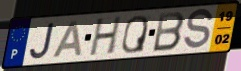A: (51, 19, 83, 60)
B: (151, 11, 186, 54)
H: (88, 15, 124, 58)
J: (28, 21, 56, 61)
Q: (120, 14, 150, 55)
S: (182, 6, 215, 52)
